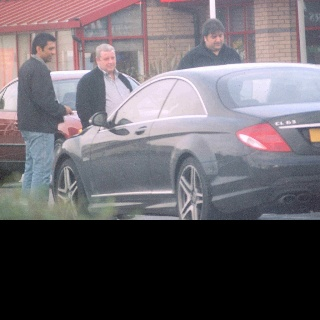without_mask: (39, 39, 56, 61), (99, 49, 116, 71), (205, 29, 224, 48)
